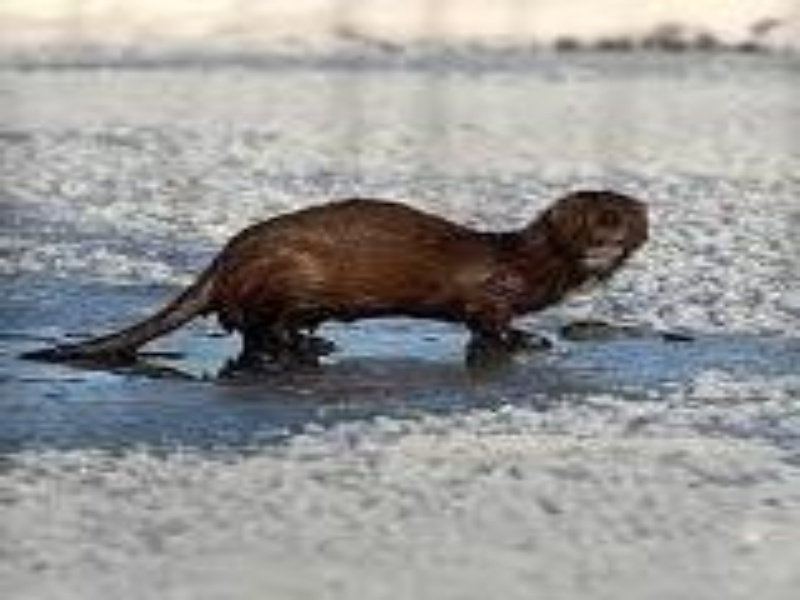minkish: (24, 187, 655, 375)
